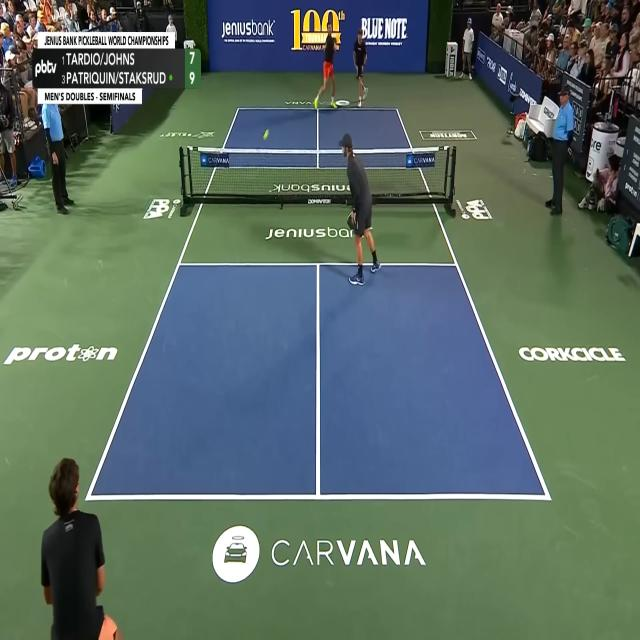ball: (263, 128, 270, 140)
